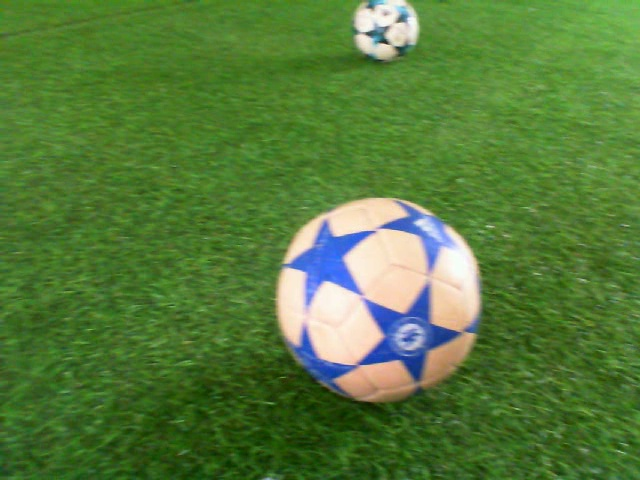ball: (270, 192, 488, 409), (349, 1, 423, 66)
